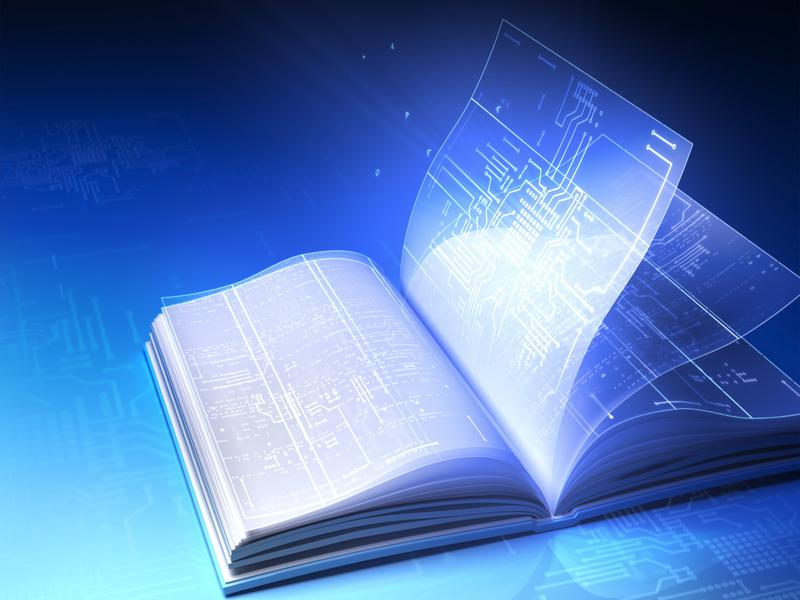book: (137, 17, 795, 600)
